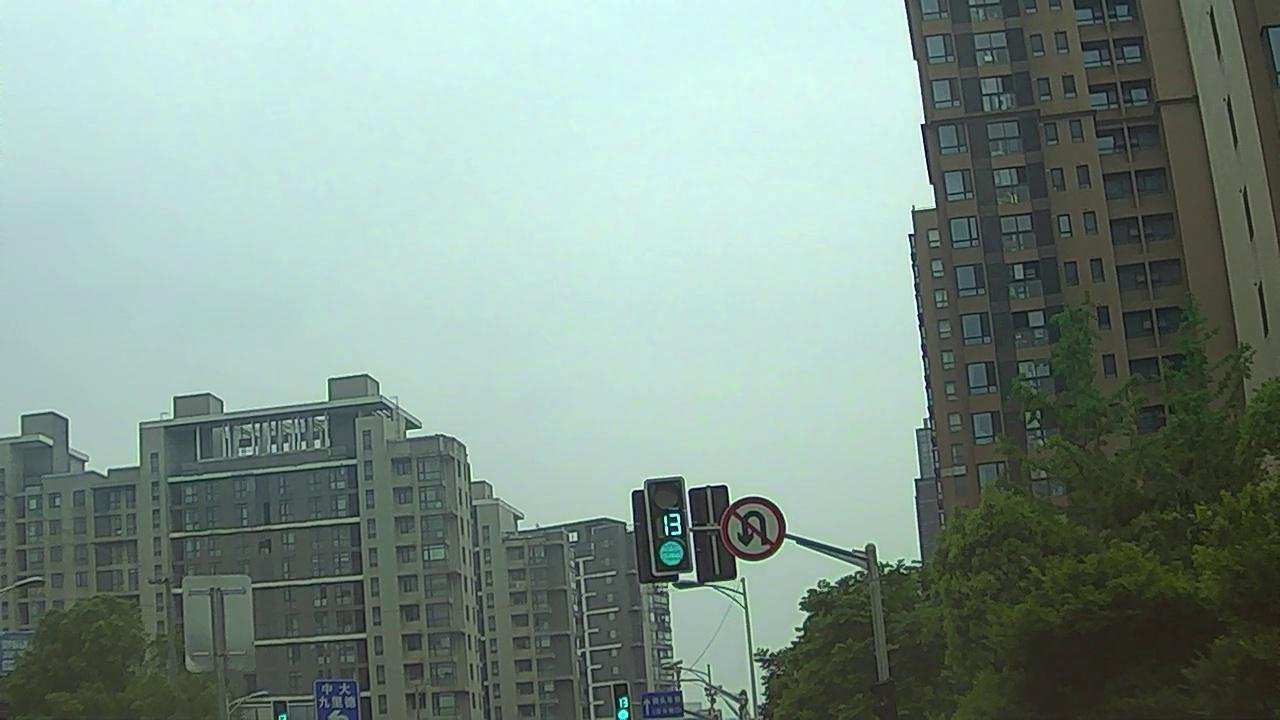traffic_light: (647, 484, 692, 569), (613, 684, 634, 720)
